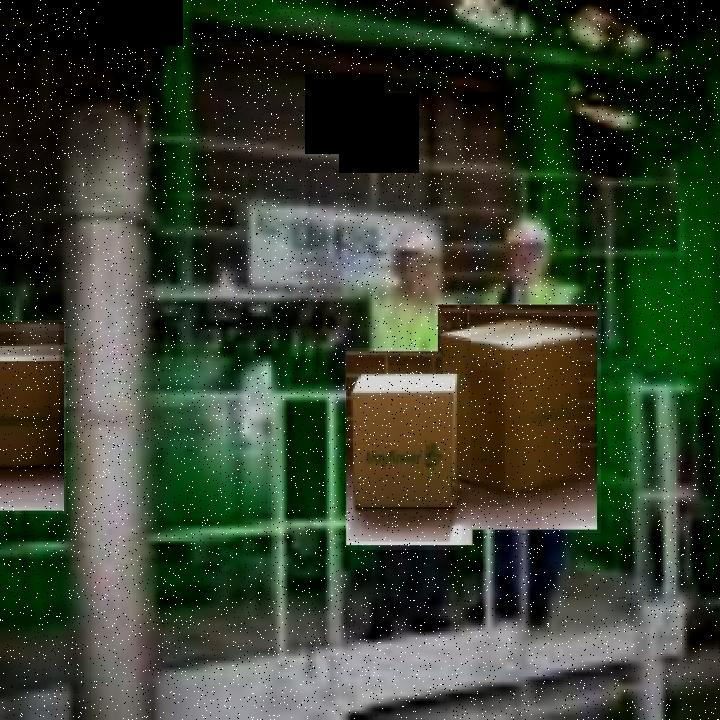box: (436, 303, 601, 533), (345, 348, 475, 550), (0, 320, 66, 514)
